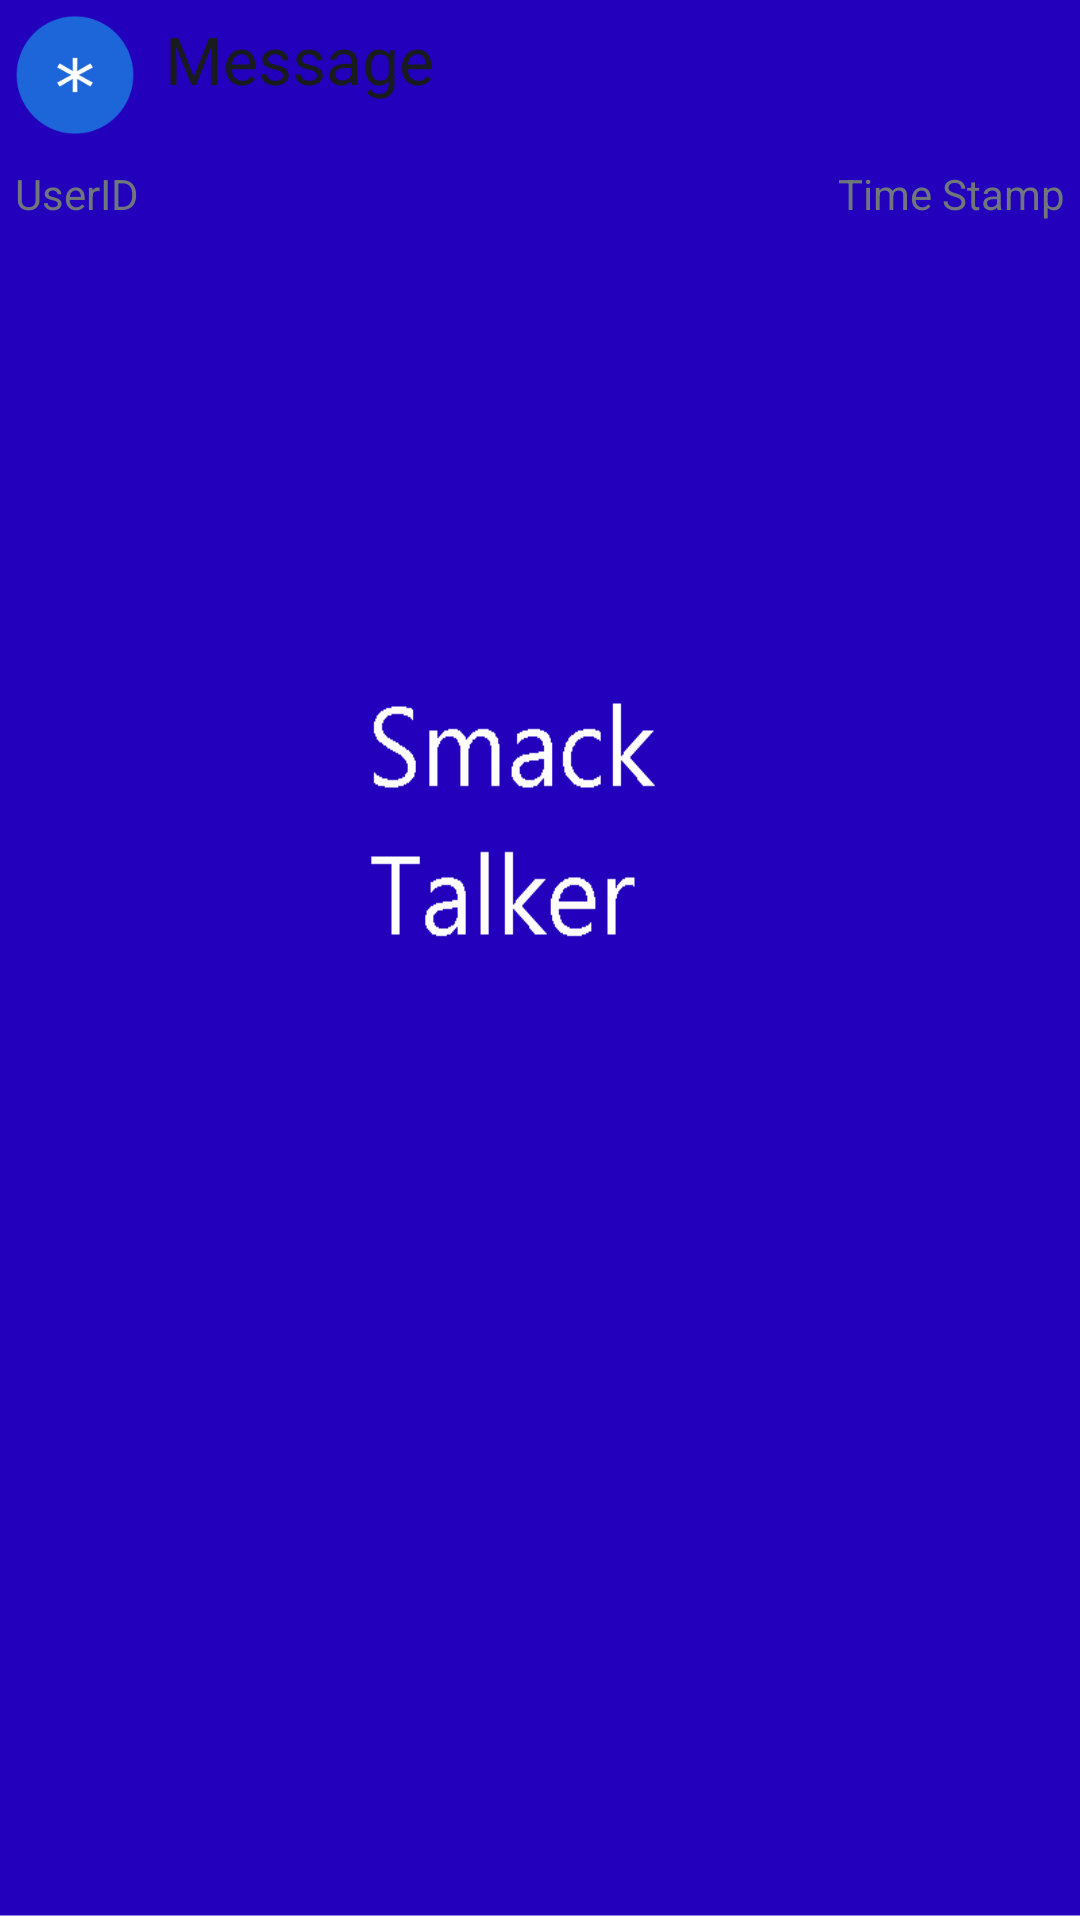

Icons on this 1080x1920 Android screen, each with its box as (x1, y1, x2, y2):
special: (16, 16, 134, 134)
